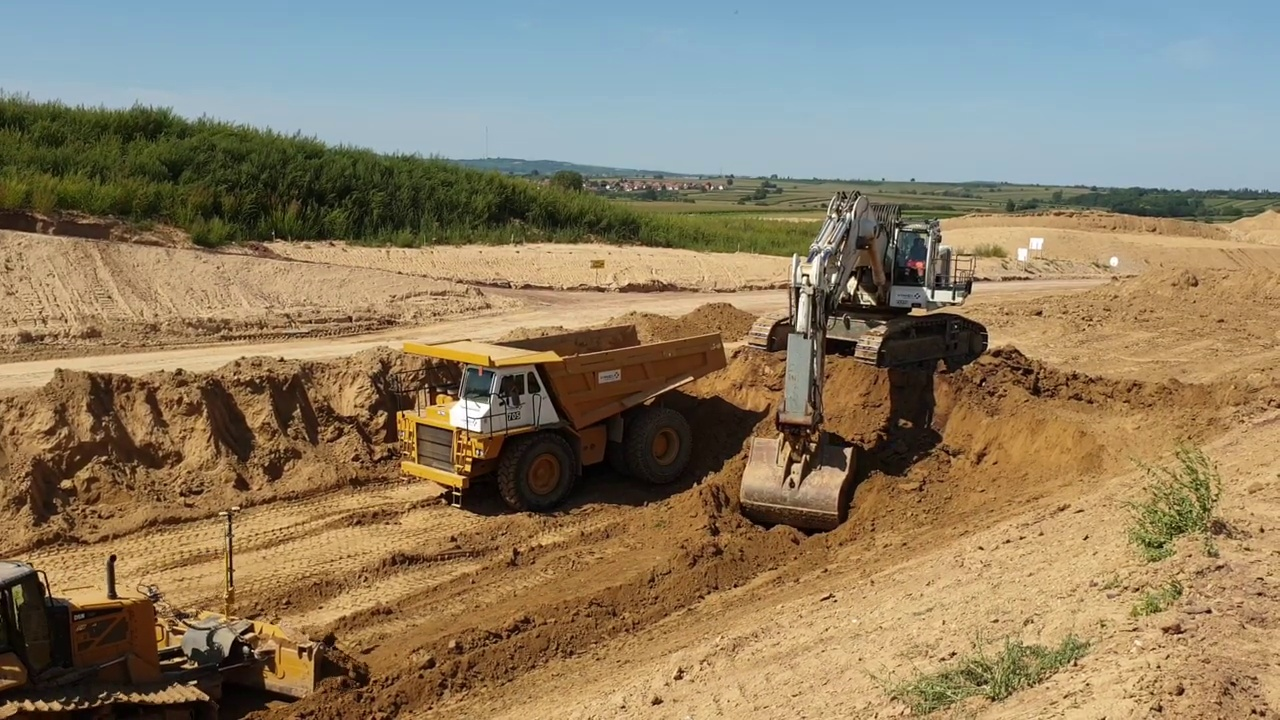bulldozer: (1, 498, 362, 720)
excavator: (737, 185, 991, 531)
truck: (381, 316, 732, 520)
